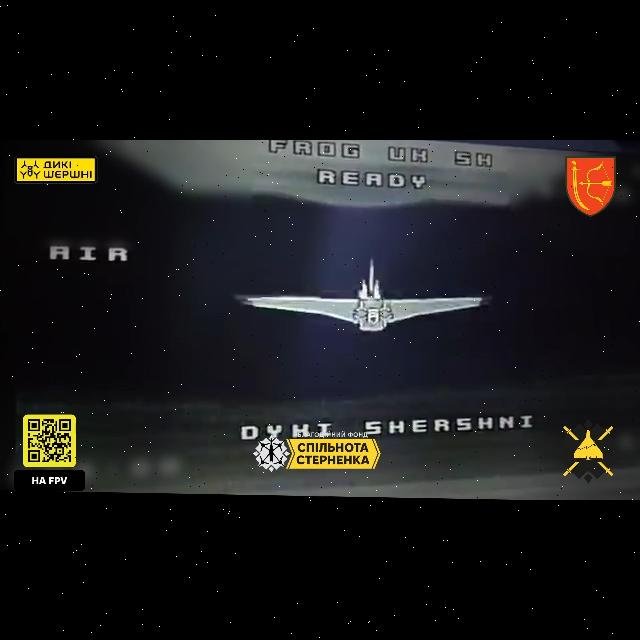Gerbera: (242, 261, 490, 333)
